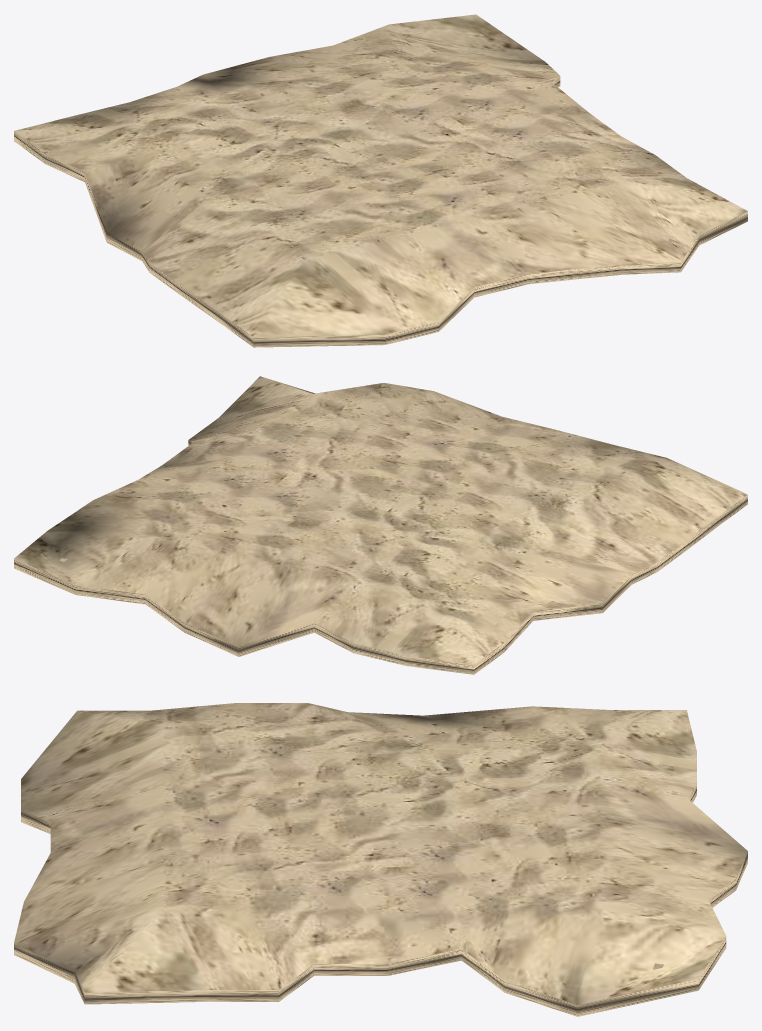
The model's file is atol.glb.
3 renders of one model, top to bottom at view 1: azimuth 30°, elevation 25°; view 2: azimuth 150°, elevation 25°; view 3: azimuth 270°, elevation 25°, orthographic. The views are drawn at different scales.
Parts seen in each view (by area): view 1: Cube; view 2: Cube; view 3: Cube.
Boxes of the visible parts, x1=… form: Cube: x1=14, y1=14, x2=747, y2=347; Cube: x1=14, y1=376, x2=747, y2=674; Cube: x1=14, y1=703, x2=747, y2=1016.
Bounding box in the file's own units: 18.54 × 1.7 × 19.7.
Materials: 1 (1 with a texture image).
